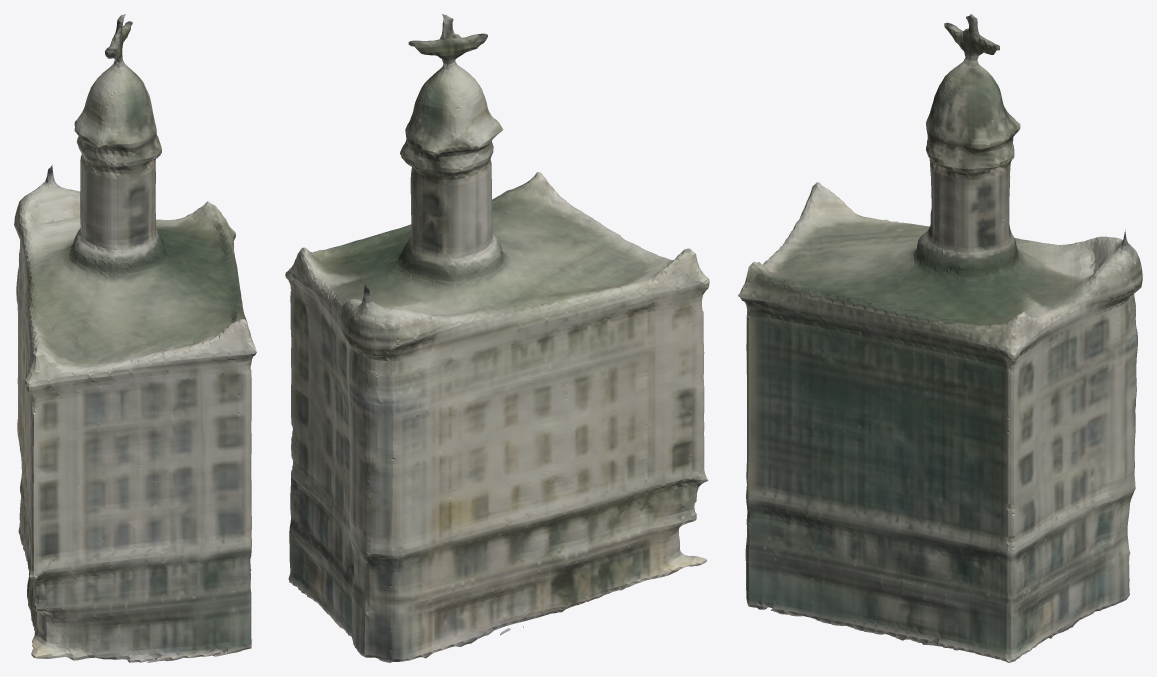
File: valladolid.glb
The picture shows the model from 3 angles, left to right: view 1: azimuth 30°, elevation 25°; view 2: azimuth 150°, elevation 25°; view 3: azimuth 270°, elevation 25°; orthographic projection. The views are drawn at different scales.
Visible parts, largest first — view 1: world; view 2: world; view 3: world.
Part boxes in pixels (bbox=[...]): world: bbox=[14, 14, 256, 662]; world: bbox=[285, 14, 709, 662]; world: bbox=[738, 14, 1142, 662].
Size of the model in its own units: 1.14 by 2.01 by 1.25.
